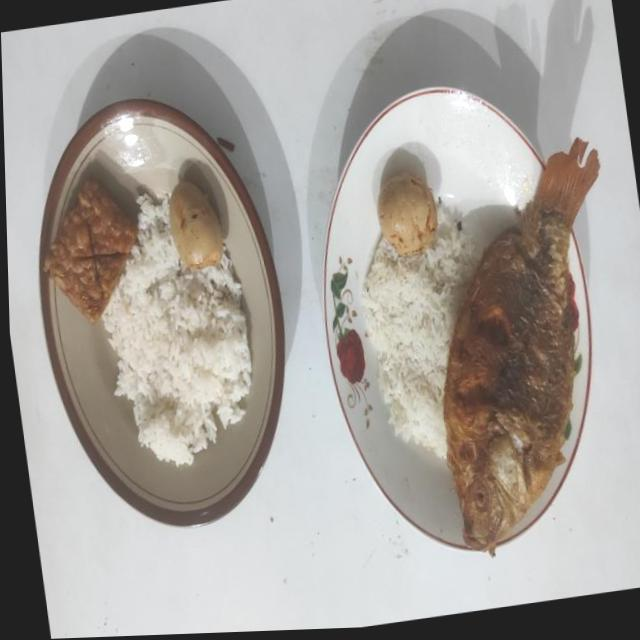ikan_mujair: (442, 138, 600, 555)
nasi_putih: (102, 193, 252, 466), (363, 211, 476, 458)
tempe_goreng: (44, 176, 138, 321)
